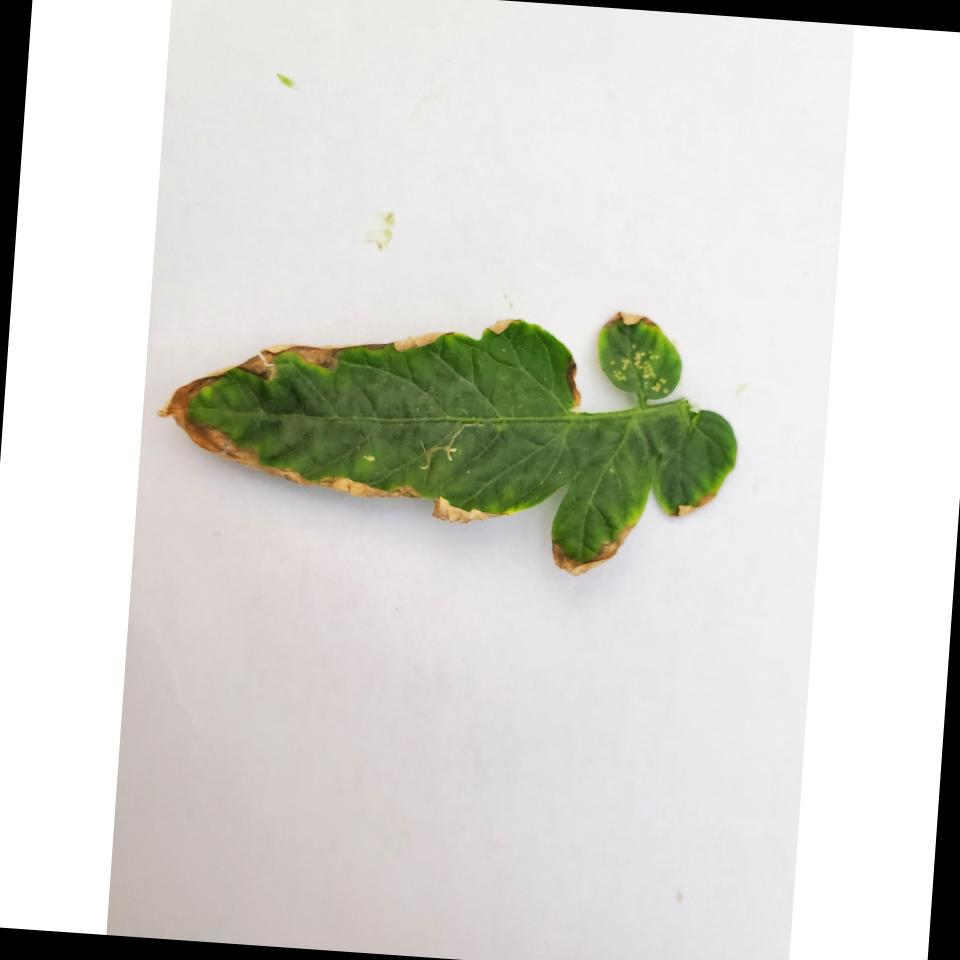tomato_bacterial_blight: (152, 279, 770, 590)
